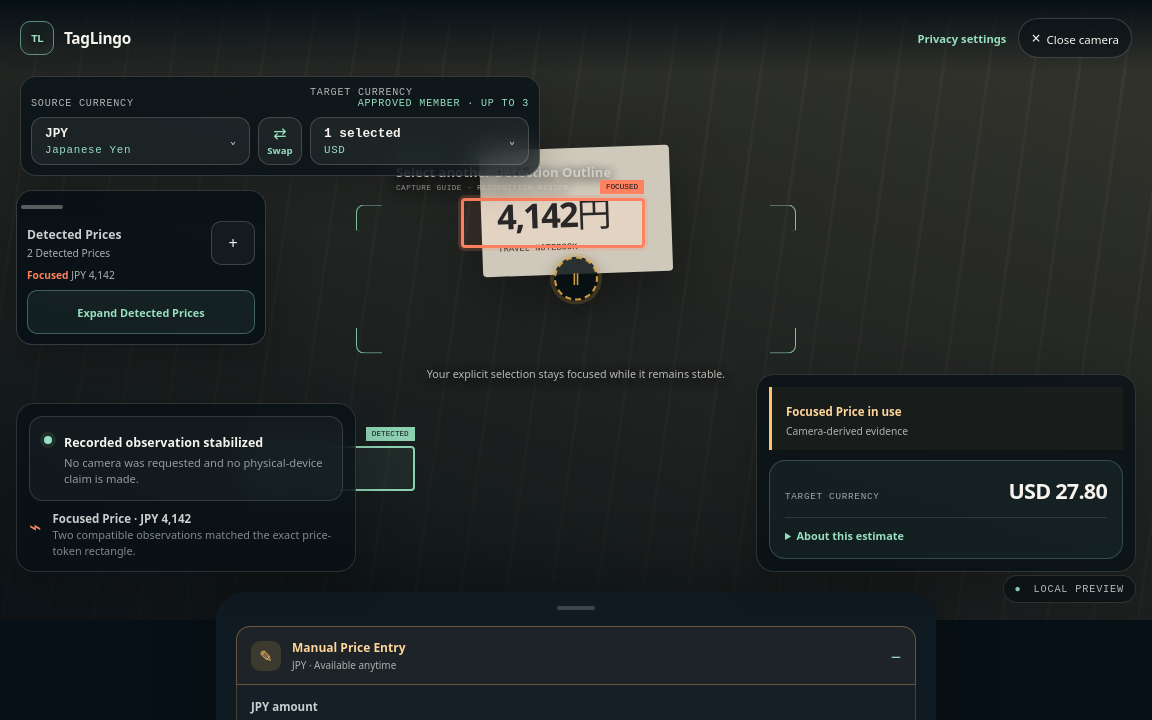
Test: Camera Workspace boundary › adds a searched Target Currency once and excludes the Source Currency
This screenshot has width=1152, height=720.
Step 1. Click the button with aria-label "target currencies: 1 selected" → click(420, 141), box x1=310 y1=117 x2=529 y2=165
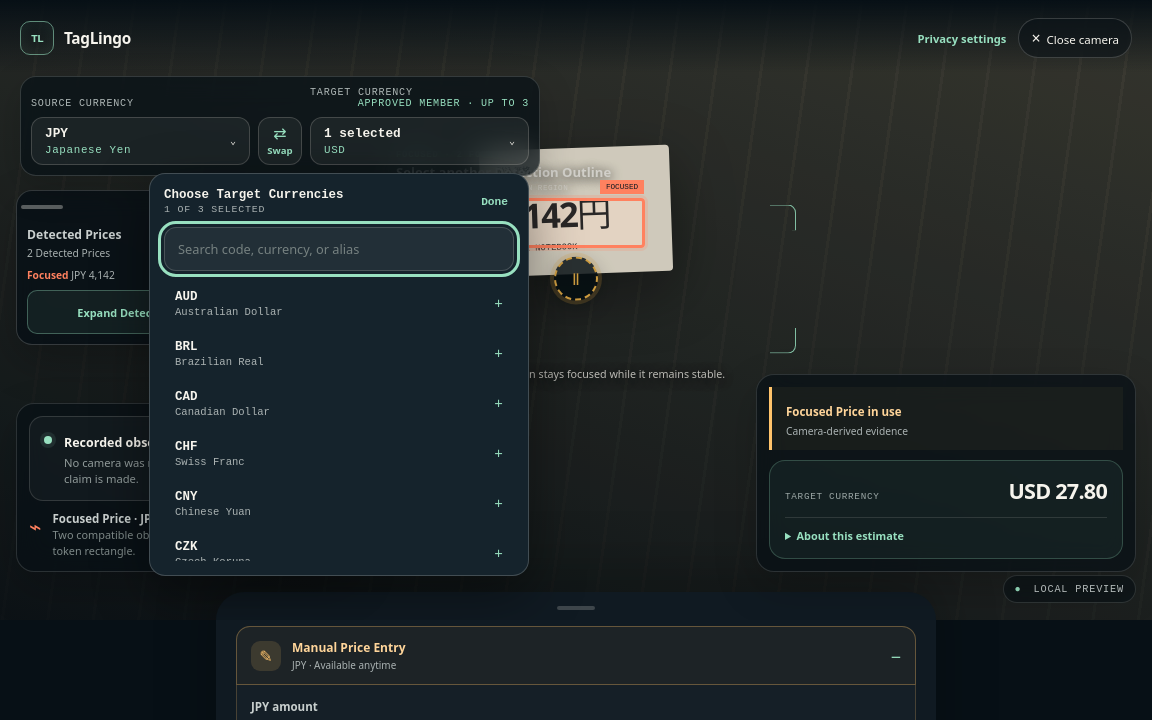
Step 2. Type "Taiwan" into the search field named "search target currencies" → (339, 249), box x1=164 y1=227 x2=514 y2=271
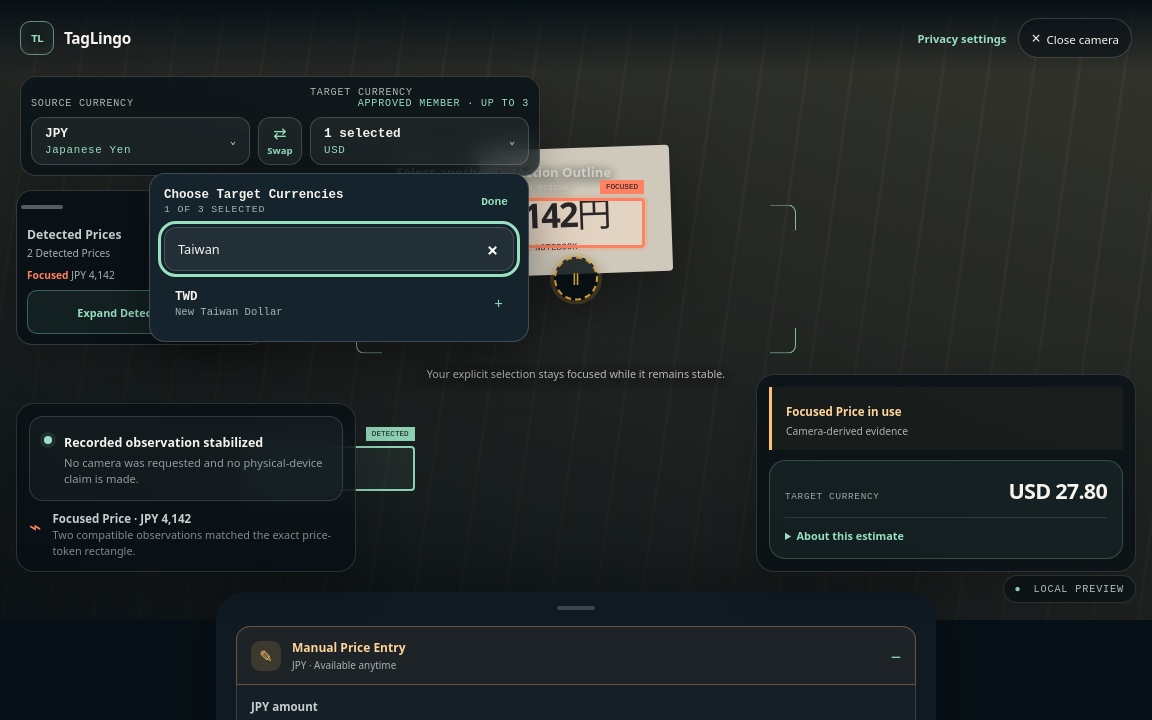
Step 3. Click the option "TWD New Taiwan Dollar +" → click(229, 312), box x1=164 y1=281 x2=514 y2=327
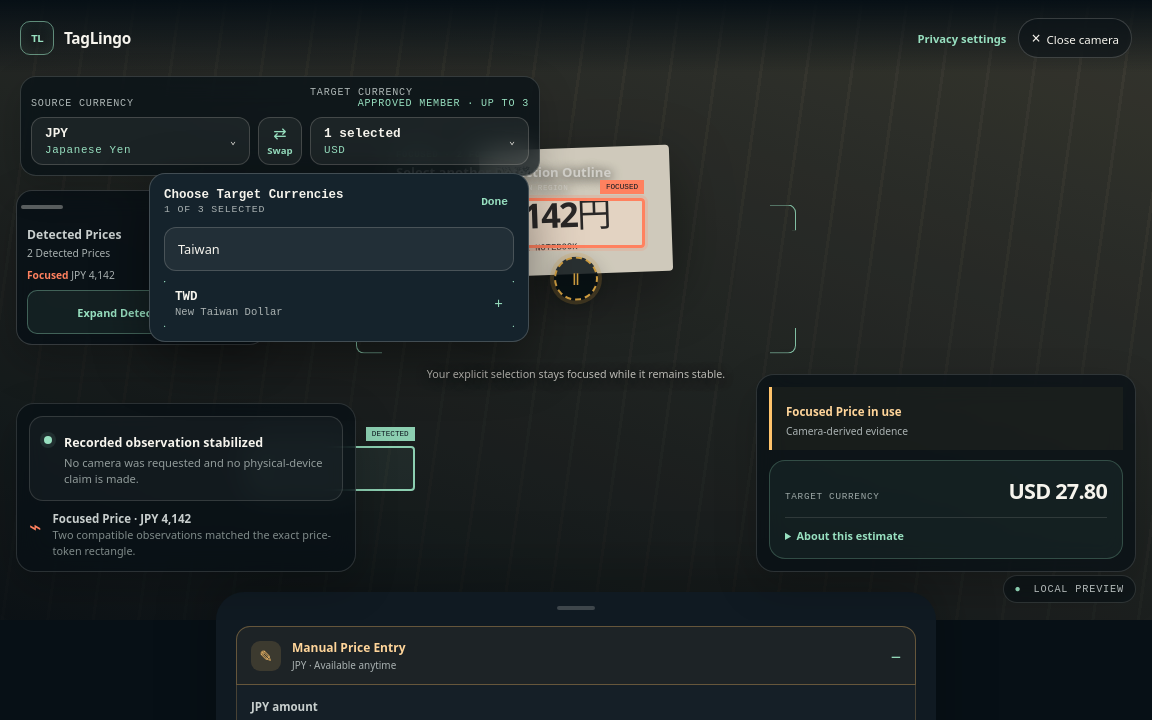
Step 4. Replace the text in the search field named "search target currencies" with "Japanese Yen" → (339, 249), box x1=164 y1=227 x2=514 y2=271
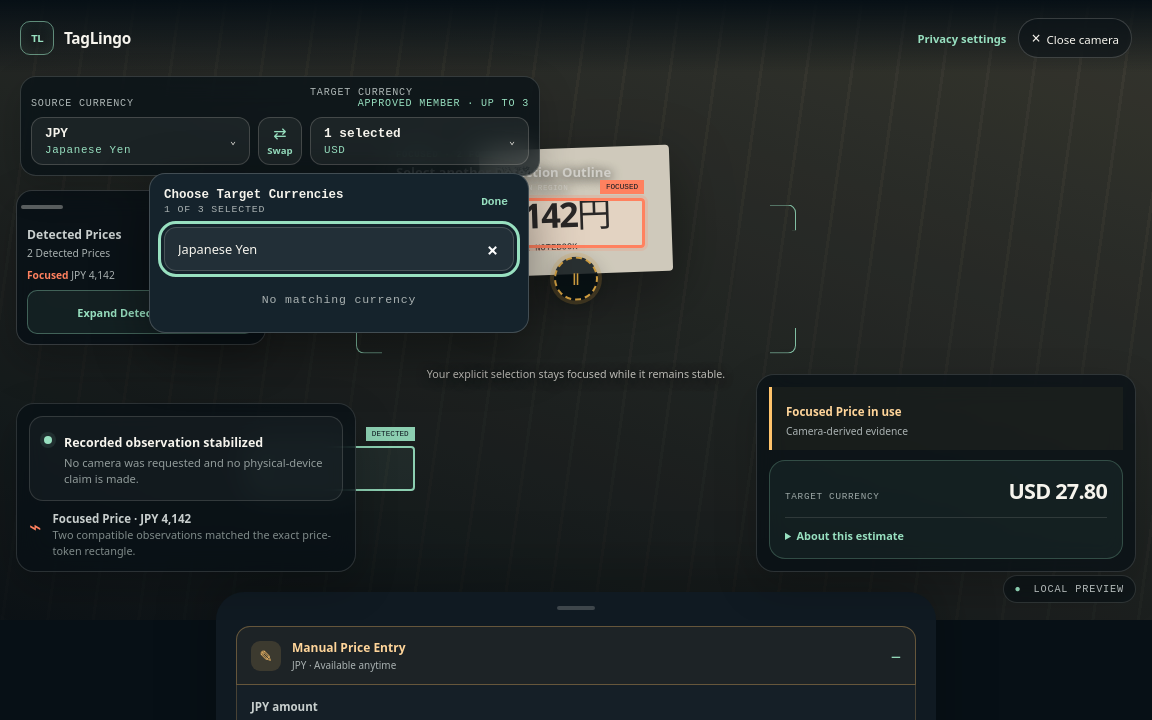
Expected: the text "No matching currency" is shown, x1=262 y1=293 x2=416 y2=306
